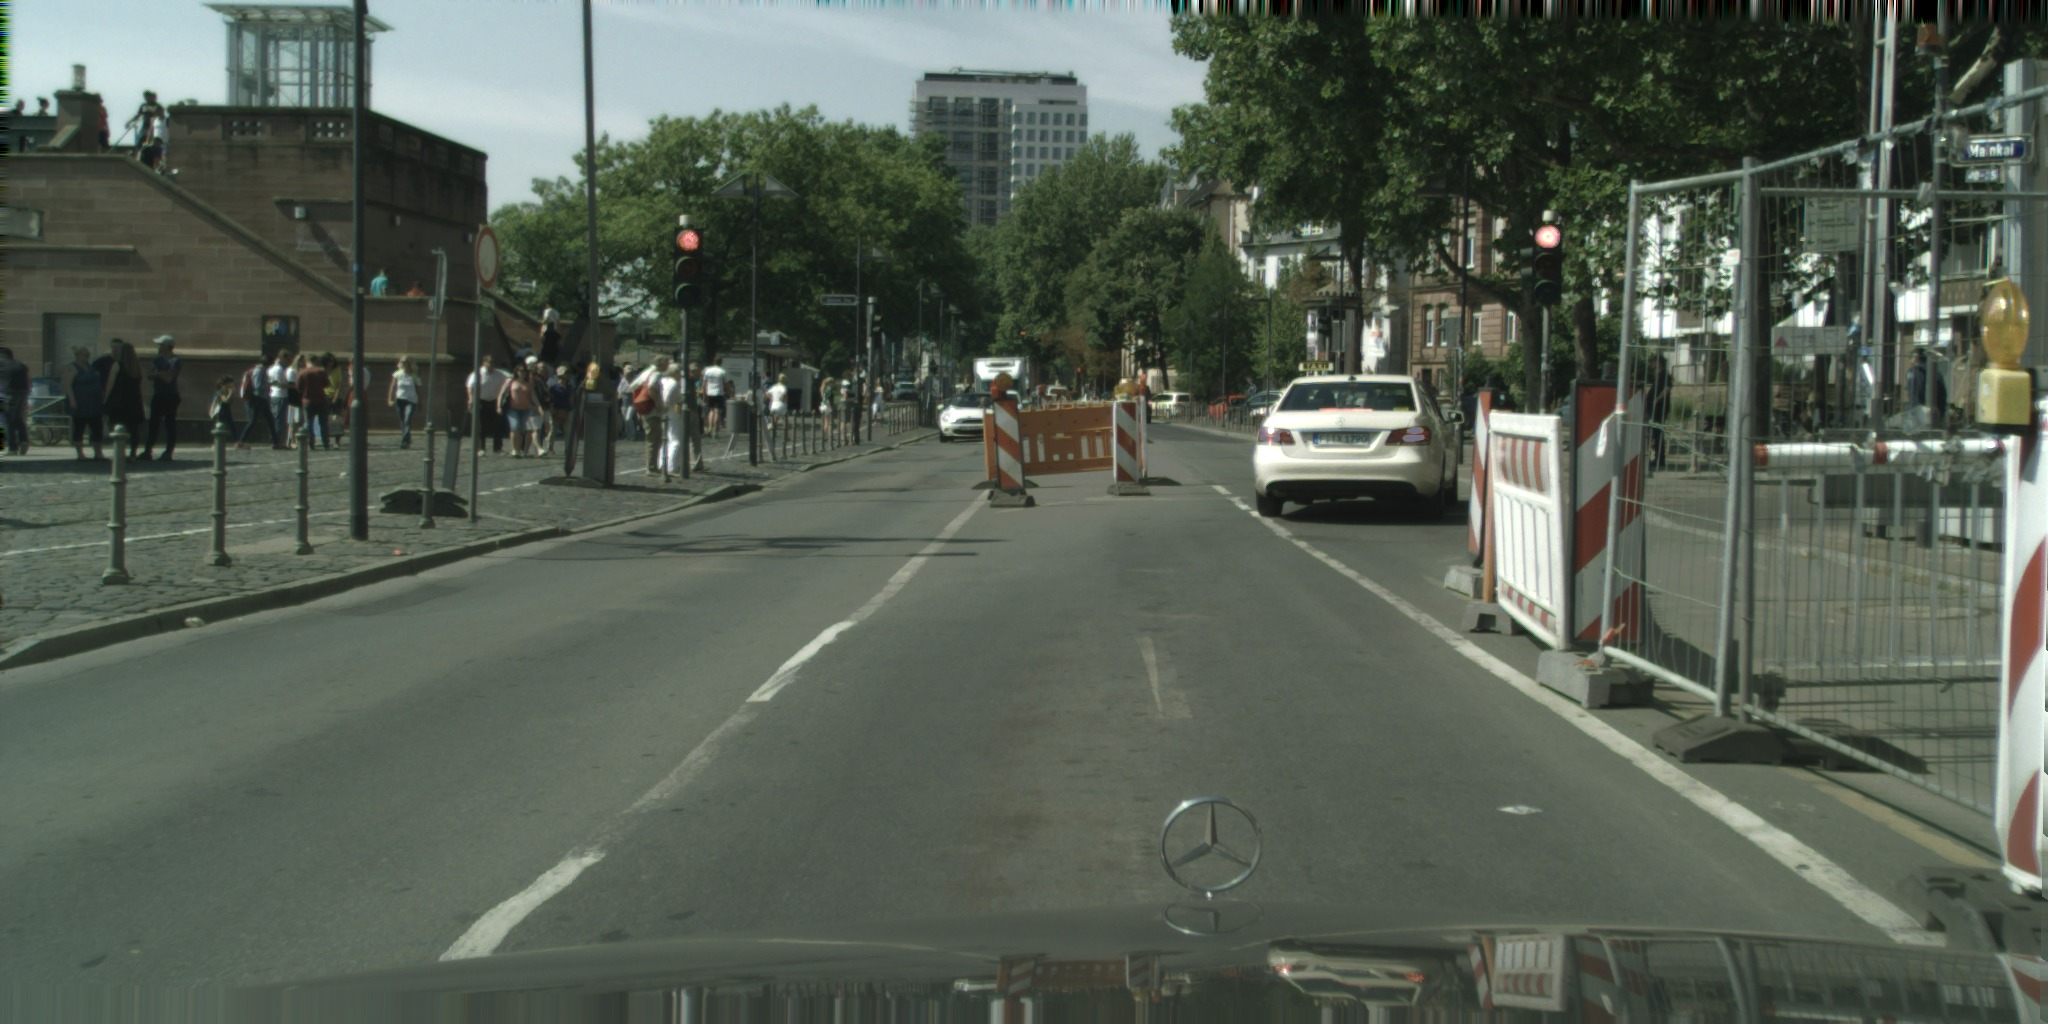car: (1254, 361, 1464, 520), (937, 391, 1000, 442), (974, 356, 1027, 412), (1220, 391, 1303, 420), (989, 390, 1029, 428), (1144, 391, 1196, 417), (1205, 394, 1251, 422), (1131, 385, 1153, 424), (891, 380, 918, 400), (1043, 386, 1071, 406), (1031, 387, 1048, 402)
person: (509, 356, 666, 442), (135, 336, 181, 461), (60, 344, 109, 462), (665, 362, 709, 478), (630, 354, 671, 477), (102, 342, 145, 461), (466, 354, 514, 458), (235, 353, 283, 449), (496, 364, 544, 458), (514, 354, 554, 458), (673, 362, 709, 472), (650, 363, 685, 477), (89, 339, 126, 443), (264, 349, 301, 449), (295, 354, 333, 449), (388, 354, 424, 449), (0, 346, 31, 456), (514, 362, 557, 436), (314, 351, 344, 449), (545, 365, 576, 455), (281, 354, 310, 450), (700, 357, 734, 438), (126, 90, 167, 154), (209, 376, 241, 449), (546, 362, 576, 432), (344, 353, 371, 428), (766, 374, 791, 452), (143, 106, 169, 170), (509, 355, 529, 436), (617, 363, 636, 441), (839, 370, 858, 442), (515, 354, 539, 409), (690, 370, 708, 435), (539, 321, 561, 375), (607, 366, 623, 436), (540, 300, 561, 349), (819, 377, 836, 440), (717, 380, 735, 429), (761, 368, 776, 429), (515, 339, 539, 374), (137, 137, 161, 172), (96, 93, 110, 150), (870, 377, 885, 425), (370, 267, 389, 295), (7, 99, 26, 120), (574, 363, 587, 394), (34, 96, 49, 122), (538, 353, 553, 376), (860, 376, 869, 404), (620, 362, 632, 381), (407, 282, 425, 295), (570, 365, 578, 385), (964, 383, 976, 399), (618, 367, 623, 379)
